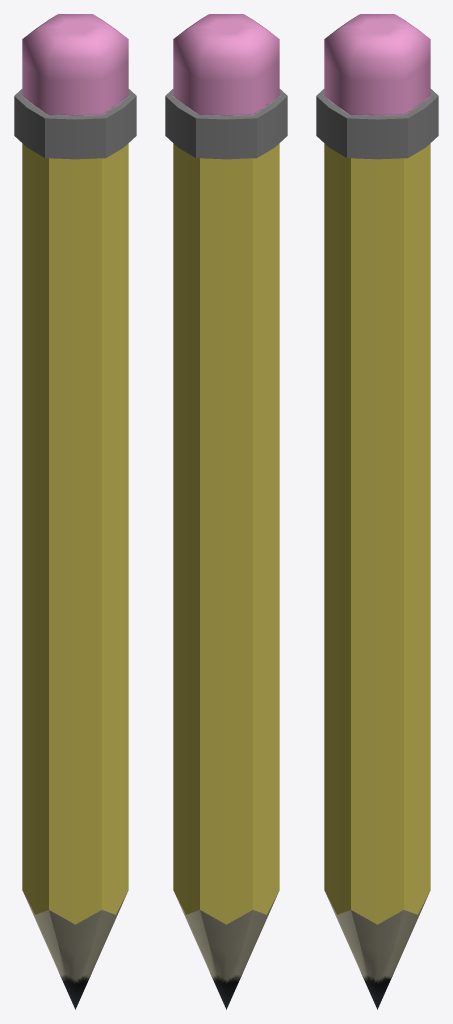
File: Friday_pencil.fbx
3 renders of one model, left to right at view 1: azimuth 30°, elevation 25°; view 2: azimuth 150°, elevation 25°; view 3: azimuth 330°, elevation 25°, orthographic.
Parts seen in each view (by area): view 1: pencil; view 2: pencil; view 3: pencil.
Part boxes in pixels (x1,y1,x2,y2): pencil: [14, 14, 136, 1009]; pencil: [165, 14, 287, 1009]; pencil: [316, 14, 438, 1009].
Size of the model in its own units: 2.55 by 24.71 by 2.79.
